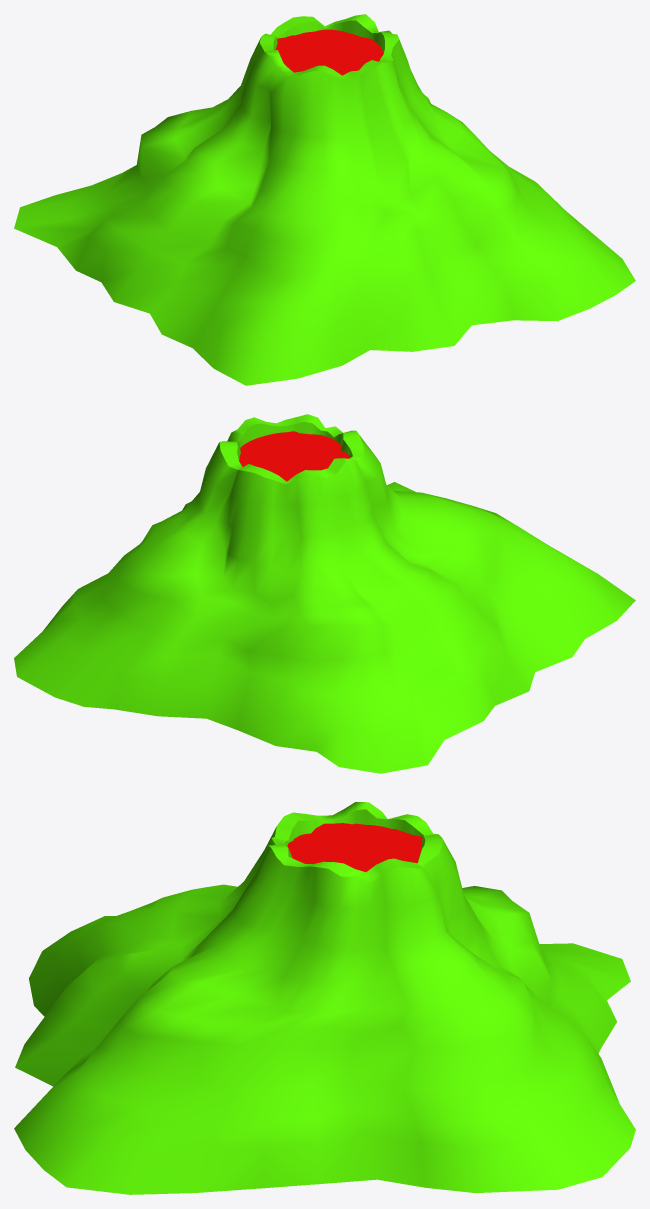
The model's file is SM_Volcano.fbx.
3 renders of one model, top to bottom at view 1: azimuth 30°, elevation 25°; view 2: azimuth 150°, elevation 25°; view 3: azimuth 270°, elevation 25°, orthographic. The views are drawn at different scales.
Parts seen in each view (by area): view 1: SM_Volcano, SM_Volcano_Lava; view 2: SM_Volcano, SM_Volcano_Lava; view 3: SM_Volcano, SM_Volcano_Lava.
Part boxes in pixels (x1,y1,x2,y2): SM_Volcano: (14, 14, 635, 385); SM_Volcano_Lava: (275, 29, 383, 75); SM_Volcano: (14, 414, 635, 773); SM_Volcano_Lava: (239, 431, 350, 481); SM_Volcano: (14, 802, 635, 1194); SM_Volcano_Lava: (287, 823, 422, 871).
Size of the model in its own units: 562 by 251 by 587.
